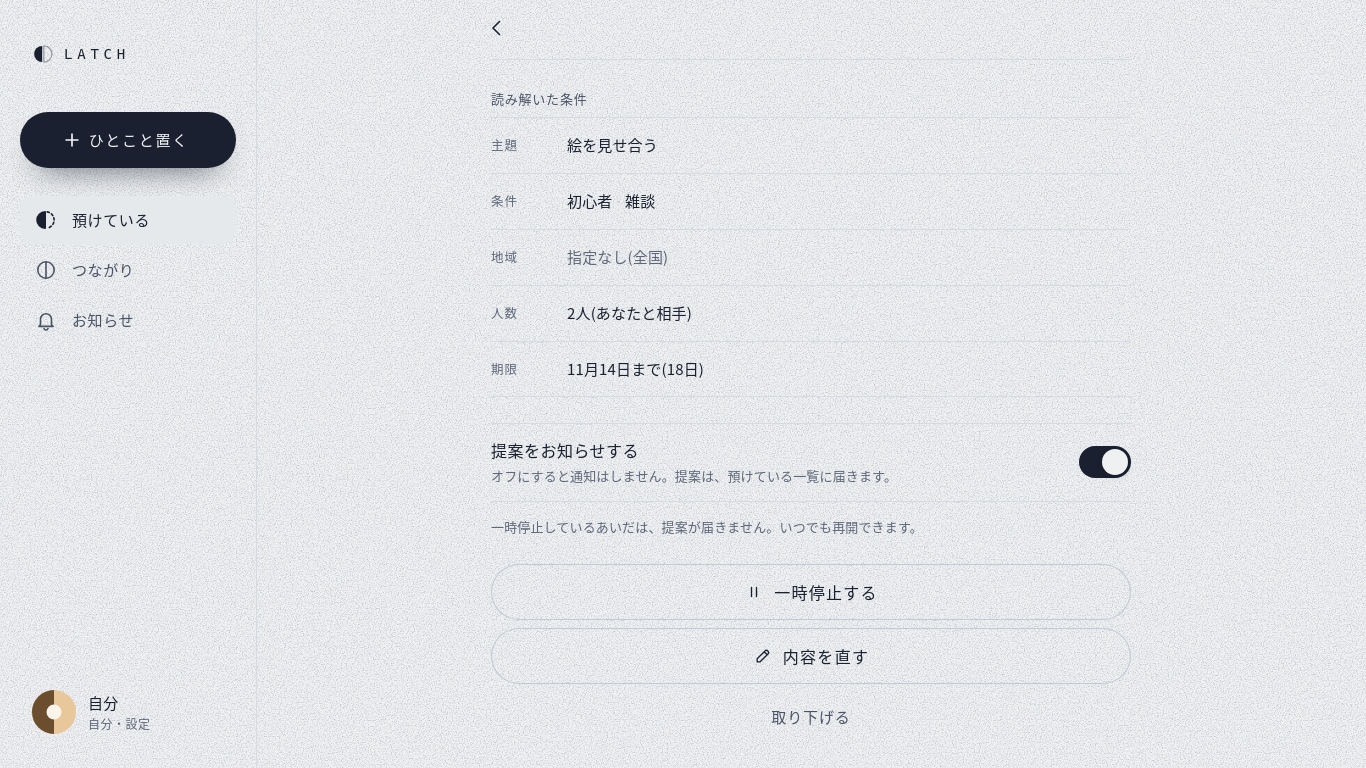
Test: IntentDetail 操作 › 一時停止・再開の成功でトーストを出す
The image size is (1366, 768).
(page scrolled)
Click the button "一時停止する": (811, 592) x1=491 y1=564 x2=1131 y2=620
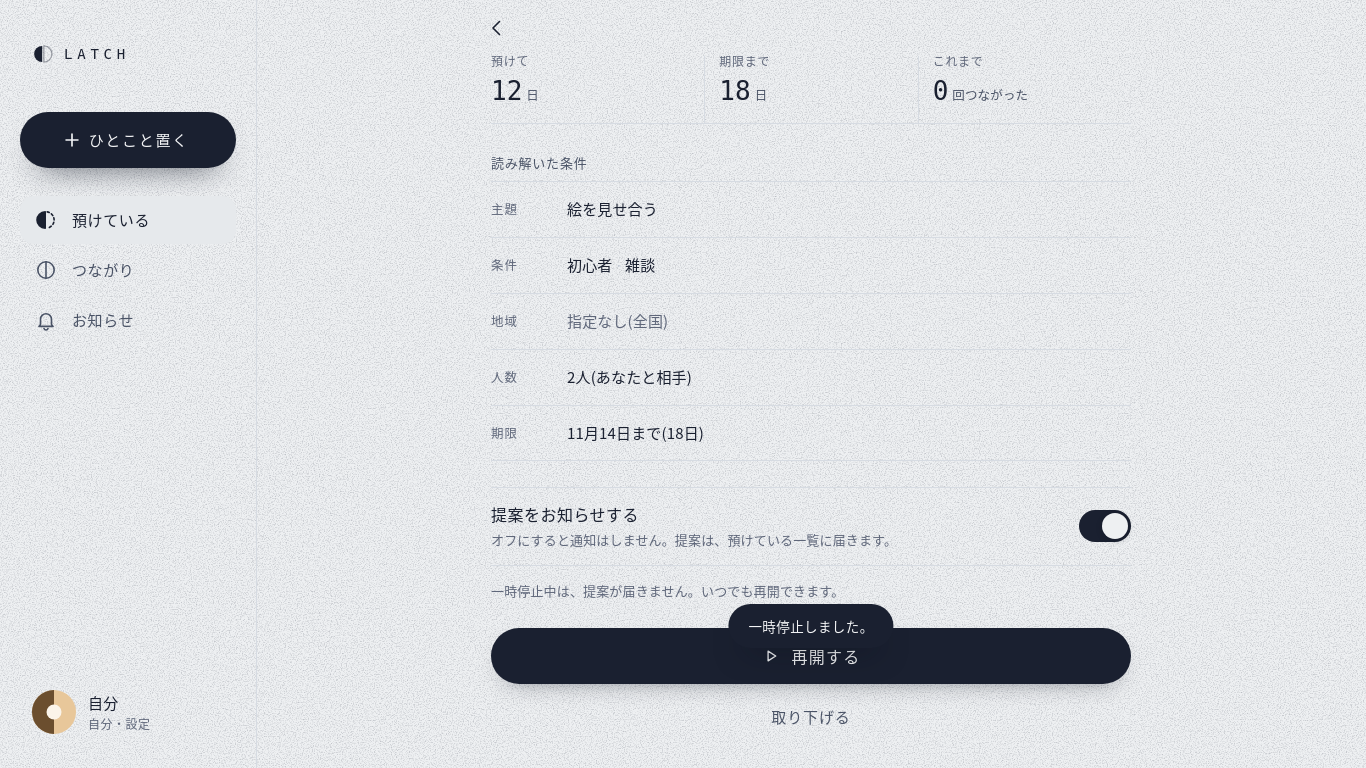
Expected: the text "一時停止しました。" is shown, x1=728 y1=604 x2=894 y2=648
Click the button "再開する": (811, 656) x1=491 y1=628 x2=1131 y2=684
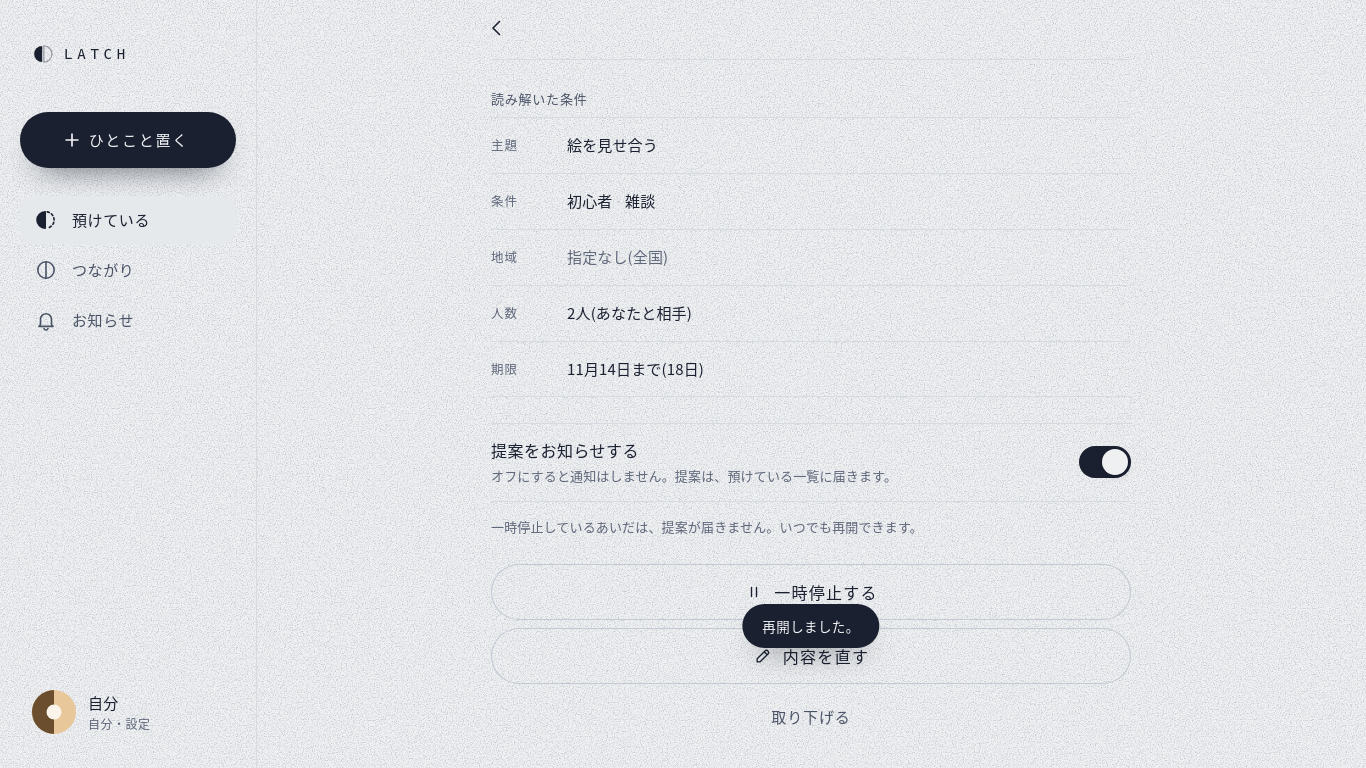
Expected: the text "再開しました。" is shown, x1=742 y1=604 x2=880 y2=648
